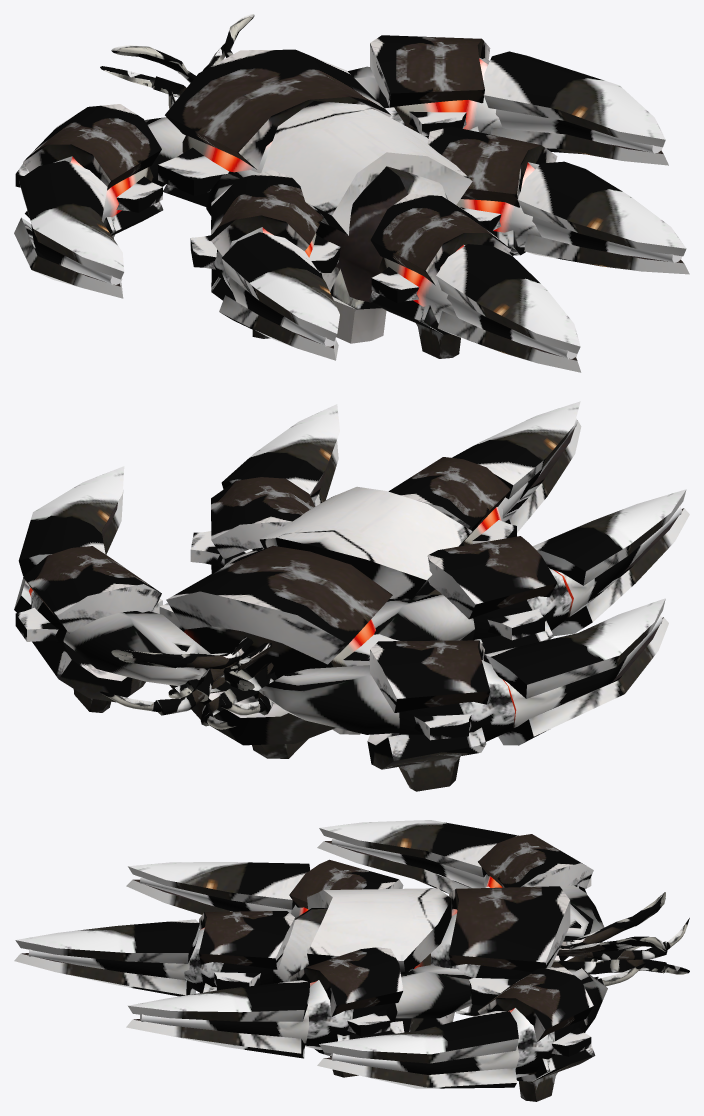
File: Apostle.fbx
3 renders of one model, top to bottom at view 1: azimuth 30°, elevation 25°; view 2: azimuth 150°, elevation 25°; view 3: azimuth 270°, elevation 25°, orthographic. The views are drawn at different scales.
Parts seen in each view (by area): view 1: 00_Core, 07_Tail, 06_MidRight, 05_MidLeft, 04_ArmRight, 01_FrontLeft, 02_FrontRight, 03_ArmLeft; view 2: 00_Core, 01_FrontLeft, 05_MidLeft, 02_FrontRight, 07_Tail, 03_ArmLeft, 06_MidRight, 04_ArmRight; view 3: 00_Core, 06_MidRight, 07_Tail, 04_ArmRight, 05_MidLeft, 02_FrontRight, 03_ArmLeft, 01_FrontLeft.
Part boxes in pixels (x1=…): 00_Core: x1=100, y1=14, x2=472, y2=343; 07_Tail: x1=369, y1=193, x2=581, y2=372; 06_MidRight: x1=427, y1=126, x2=689, y2=274; 05_MidLeft: x1=190, y1=170, x2=340, y2=360; 04_ArmRight: x1=483, y1=51, x2=668, y2=165; 01_FrontLeft: x1=15, y1=104, x2=185, y2=238; 02_FrontRight: x1=348, y1=35, x2=502, y2=138; 03_ArmLeft: x1=14, y1=160, x2=124, y2=298; 00_Core: x1=100, y1=486, x2=474, y2=758; 01_FrontLeft: x1=259, y1=640, x2=516, y2=791; 05_MidLeft: x1=427, y1=489, x2=689, y2=654; 02_FrontRight: x1=15, y1=546, x2=210, y2=712; 07_Tail: x1=388, y1=401, x2=581, y2=546; 03_ArmLeft: x1=483, y1=598, x2=668, y2=745; 06_MidRight: x1=190, y1=404, x2=339, y2=573; 04_ArmRight: x1=14, y1=466, x2=124, y2=612; 00_Core: x1=273, y1=886, x2=689, y2=1032; 06_MidRight: x1=126, y1=947, x2=404, y2=1077; 07_Tail: x1=14, y1=911, x2=295, y2=996; 04_ArmRight: x1=317, y1=1011, x2=519, y2=1088; 05_MidLeft: x1=126, y1=859, x2=403, y2=917; 02_FrontRight: x1=478, y1=967, x2=607, y2=1101; 03_ArmLeft: x1=317, y1=820, x2=518, y2=893; 01_FrontLeft: x1=478, y1=834, x2=604, y2=960.
Bounding box in the file's own units: 8470 × 2855 × 10211.
Materials: 1 (1 with a texture image).
